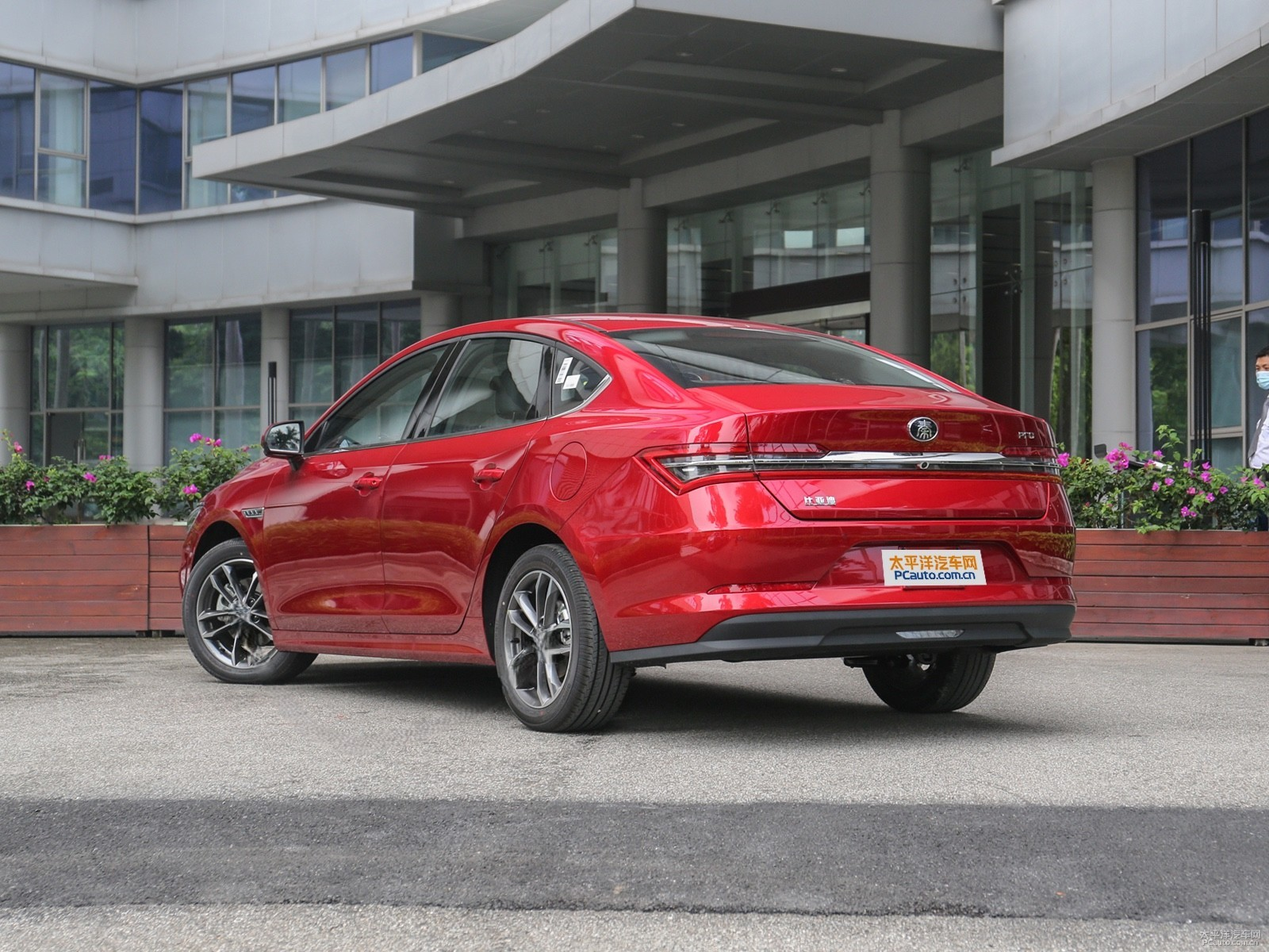BYD Qin: (907, 417, 937, 441)
